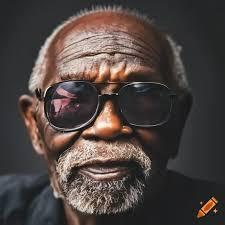sunglasses: (38, 70, 179, 134)
